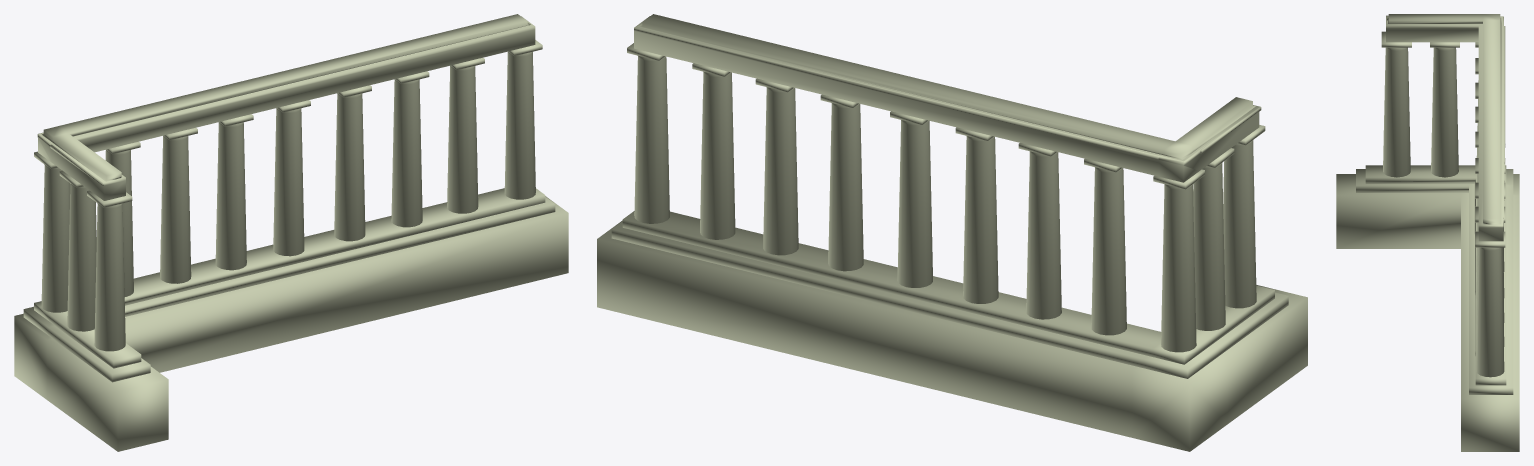
Rendered from monument2.obj.
The picture shows the model from 3 angles, left to right: view 1: azimuth 30°, elevation 25°; view 2: azimuth 150°, elevation 25°; view 3: azimuth 270°, elevation 25°; orthographic projection. The views are drawn at different scales.
Parts seen in each view (by area): view 1: Cube1_sep31, Cube1_copy11, Cube1_sep30, Cube1_copy12, Cube1, Cylinder4_copy15, Cylinder4_copy35, Cylinder4_copy33, Cylinder4_copy12, Cylinder4_copy32, Cylinder4_copy34, Cylinder4_copy11 (+4 smaller); view 2: Cube1_sep31, Cube1_copy11, Cube1_sep30, Cube1_copy12, Cube1, Cylinder4, Cylinder4_copy35, Cylinder4_copy32, Cylinder4_copy11, Cylinder4_copy33, Cylinder4_copy12, Cylinder4_copy10 (+4 smaller); view 3: Cube1_sep31, Cube1_copy12, Cube1, Cube1_copy11, Cylinder4_copy35, Cylinder4_copy15, Cylinder4_copy14, Cube1_sep30, Cylinder4_copy34, Cylinder4_copy33, Cylinder4_copy32.
Part boxes in pixels (bbox=[...]): Cube1_sep31: bbox=[14, 196, 568, 451]; Cube1_copy11: bbox=[37, 16, 535, 200]; Cube1_sep30: bbox=[34, 188, 545, 368]; Cube1_copy12: bbox=[42, 14, 530, 181]; Cube1: bbox=[23, 197, 555, 382]; Cylinder4_copy15: bbox=[87, 190, 132, 351]; Cylinder4_copy35: bbox=[504, 40, 542, 199]; Cylinder4_copy33: bbox=[391, 71, 429, 227]; Cylinder4_copy12: bbox=[215, 114, 253, 270]; Cylinder4_copy32: bbox=[334, 85, 371, 241]; Cylinder4_copy34: bbox=[447, 57, 484, 213]; Cylinder4_copy11: bbox=[160, 127, 197, 283]; Cube1_sep31: bbox=[597, 220, 1307, 451]; Cube1_copy11: bbox=[634, 16, 1261, 182]; Cube1_sep30: bbox=[622, 211, 1274, 364]; Cube1_copy12: bbox=[638, 14, 1255, 159]; Cube1: bbox=[611, 221, 1288, 378]; Cylinder4: bbox=[1153, 169, 1204, 352]; Cylinder4_copy35: bbox=[627, 43, 669, 223]; Cylinder4_copy32: bbox=[820, 94, 863, 271]; Cylinder4_copy11: bbox=[1018, 143, 1061, 319]; Cylinder4_copy33: bbox=[755, 78, 798, 255]; Cylinder4_copy12: bbox=[955, 127, 998, 303]; Cylinder4_copy10: bbox=[1084, 158, 1126, 335]; Cube1_sep31: bbox=[1336, 174, 1519, 451]; Cube1_copy12: bbox=[1387, 14, 1501, 224]; Cube1: bbox=[1356, 169, 1513, 394]; Cube1_copy11: bbox=[1386, 15, 1505, 241]; Cylinder4_copy35: bbox=[1475, 231, 1505, 377]; Cylinder4_copy15: bbox=[1381, 31, 1411, 177]; Cylinder4_copy14: bbox=[1430, 42, 1459, 177]; Cube1_sep30: bbox=[1365, 165, 1506, 385]; Cylinder4_copy34: bbox=[1475, 206, 1505, 346]; Cylinder4_copy33: bbox=[1475, 182, 1505, 322]; Cylinder4_copy32: bbox=[1475, 158, 1505, 298].
Bounding box in the file's own units: 18.16 × 8.32 × 6.26.
